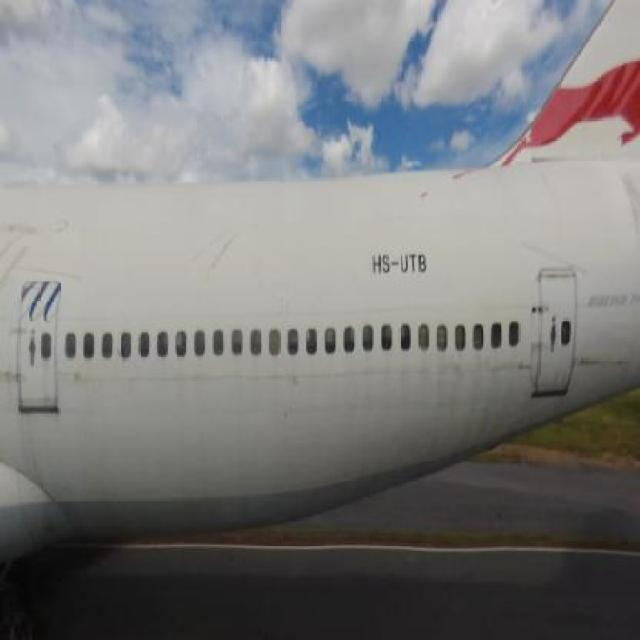Scartch: (186, 222, 242, 290), (0, 223, 31, 325), (1, 368, 22, 389)
